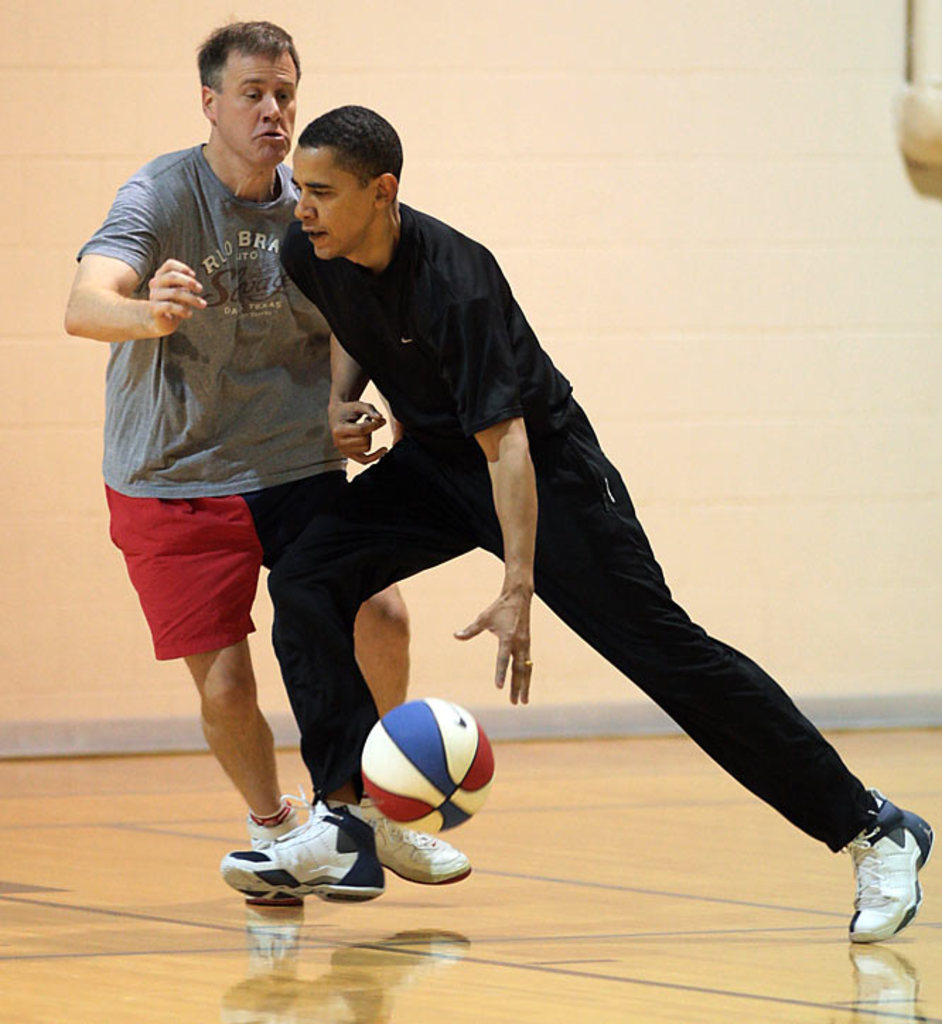Footwear: (212, 801, 383, 908), (826, 784, 932, 945), (236, 798, 307, 925), (368, 806, 471, 890)
